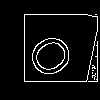O: (25, 25, 84, 83)
